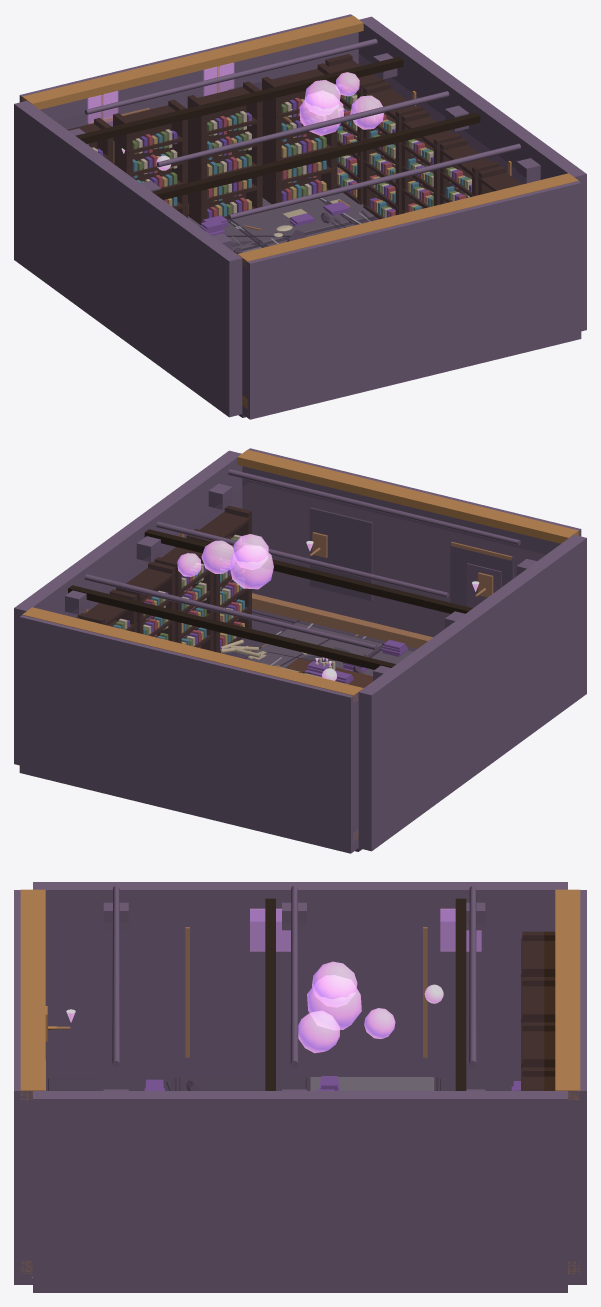
Rendered from arcane-library.high.glb.
3 views of the same model, one above another, from view 1: azimuth 30°, elevation 25°; view 2: azimuth 150°, elevation 25°; view 3: azimuth 270°, elevation 25° (orthographic). The views are drawn at different scales.
Parts seen in each view (by area): view 1: south_authored_wall, ceiling_shadow_occlusion_panel, west_authored_wall, east_authored_wall, dark_oak_ceiling_crossbeam (×2), north_authored_wall, shelf_left (×6), north_crown_trim, upper_vault_stone_rib_crosswise (×3), shelf_right (×6), south_crown_trim, floating_faceted_crystal (×3) (+5 smaller); view 2: north_authored_wall, ceiling_shadow_occlusion_panel, west_authored_wall, south_authored_wall, east_authored_wall, dark_oak_ceiling_crossbeam (×2), south_crown_trim, wall_recess_panel_s (×2), upper_vault_stone_rib_crosswise (×3), north_crown_trim, floating_faceted_crystal (×3), south_base_trim (+8 smaller); view 3: east_authored_wall, west_authored_wall, ceiling_shadow_occlusion_panel, floating_faceted_crystal (×4), north_crown_trim, south_crown_trim, individual_settled_beveled_floor_tile (×4), north_authored_wall, south_authored_wall, dark_oak_ceiling_crossbeam (×2), upper_vault_stone_rib_crosswise (×3), shelf_board (×4) (+3 smaller).
Part boxes in pixels (left/top/right/bottom): south_authored_wall: left=242, top=181, right=581, bottom=419; ceiling_shadow_occlusion_panel: left=56, top=50, right=532, bottom=253; west_authored_wall: left=14, top=100, right=242, bottom=417; east_authored_wall: left=358, top=16, right=586, bottom=331; dark_oak_ceiling_crossbeam (×2): left=75, top=56, right=480, bottom=199; north_authored_wall: left=19, top=14, right=358, bottom=129; shelf_left (×6): left=113, top=76, right=467, bottom=224; north_crown_trim: left=22, top=15, right=363, bottom=109; upper_vault_stone_rib_crosswise (×3): left=85, top=38, right=520, bottom=219; shelf_right (×6): left=168, top=63, right=460, bottom=217; south_crown_trim: left=237, top=173, right=578, bottom=268; floating_faceted_crystal (×3): left=299, top=80, right=383, bottom=135; north_authored_wall: left=19, top=615, right=358, bottom=853; ceiling_shadow_occlusion_panel: left=68, top=482, right=544, bottom=687; west_authored_wall: left=358, top=534, right=586, bottom=851; south_authored_wall: left=242, top=448, right=581, bottom=637; east_authored_wall: left=14, top=450, right=242, bottom=765; dark_oak_ceiling_crossbeam (×2): left=68, top=529, right=472, bottom=669; south_crown_trim: left=237, top=449, right=578, bottom=543; wall_recess_panel_s (×2): left=309, top=507, right=513, bottom=614; upper_vault_stone_rib_crosswise (×3): left=84, top=469, right=520, bottom=650; north_crown_trim: left=22, top=607, right=363, bottom=701; floating_faceted_crystal (×3): left=201, top=534, right=273, bottom=589; south_base_trim: left=252, top=593, right=432, bottom=648; east_authored_wall: left=33, top=1091, right=567, bottom=1292; west_authored_wall: left=33, top=882, right=567, bottom=1078; ceiling_shadow_occlusion_panel: left=57, top=922, right=543, bottom=1090; floating_faceted_crystal (×4): left=298, top=961, right=395, bottom=1053; north_crown_trim: left=555, top=889, right=580, bottom=1100; south_crown_trim: left=20, top=889, right=45, bottom=1100; individual_settled_beveled_floor_tile (×4): left=48, top=1077, right=520, bottom=1090; north_authored_wall: left=568, top=890, right=586, bottom=1284; south_authored_wall: left=14, top=890, right=32, bottom=1284; dark_oak_ceiling_crossbeam (×2): left=265, top=898, right=466, bottom=1090; upper_vault_stone_rib_crosswise (×3): left=112, top=885, right=476, bottom=1067; shelf_board (×4): left=521, top=938, right=555, bottom=1090.
Size of what is drawn, in the model's own units: 8.64 by 4.59 by 9.64.
